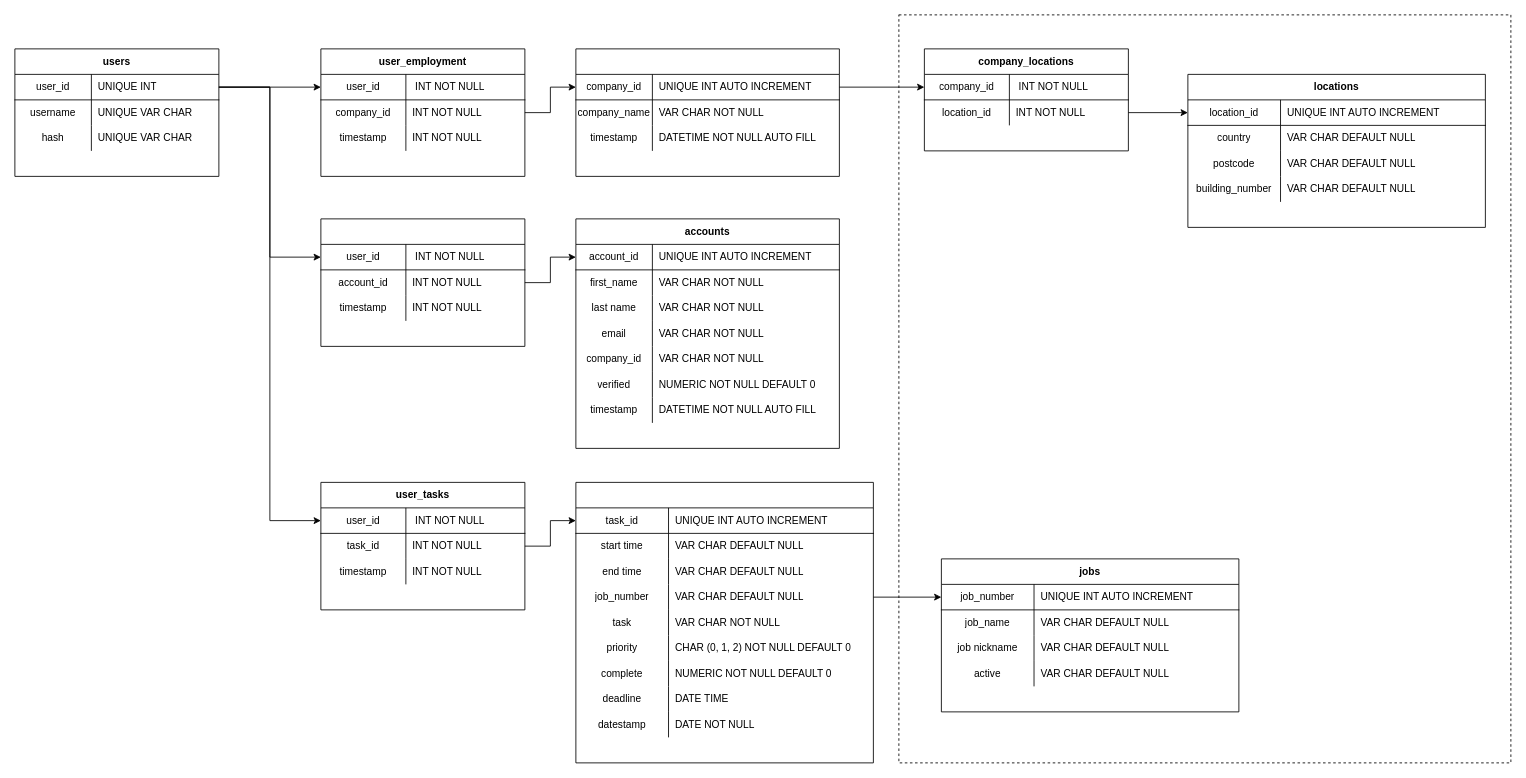
The diagram is 1526 pixels wide and 778 high, and some of its shapes have lost their labels. The box of each missing label's shape, as (x1, y1, x2, y2) in pixels:
companies: (575, 48, 839, 176)
tasks: (575, 482, 873, 763)
user_accounts: (320, 218, 525, 346)
